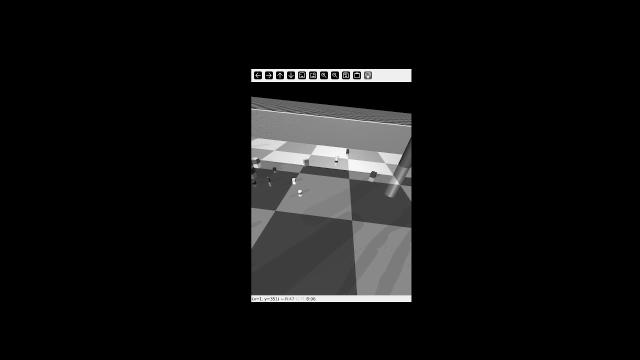cilindro: (398, 128, 412, 170), (270, 164, 280, 174), (267, 174, 274, 184), (345, 147, 351, 155), (334, 155, 340, 163)
cuadrado: (290, 176, 299, 185), (370, 171, 379, 179), (252, 157, 262, 164), (250, 165, 256, 175)
esfera: (296, 190, 304, 196), (251, 179, 257, 186)
rectangulo: (301, 158, 312, 163)
